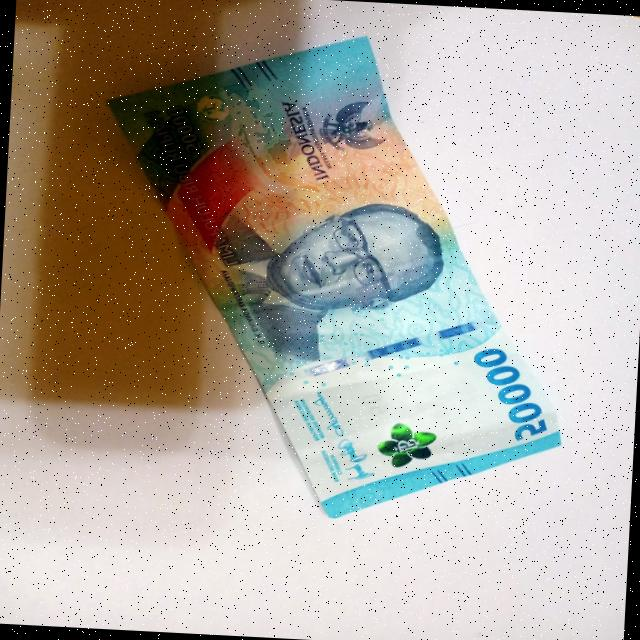50K: (64, 16, 594, 544)
